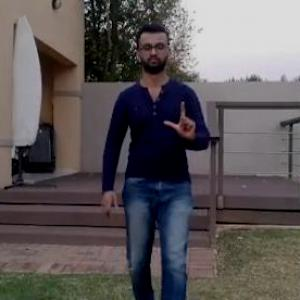land_hand: (160, 85, 203, 140)
